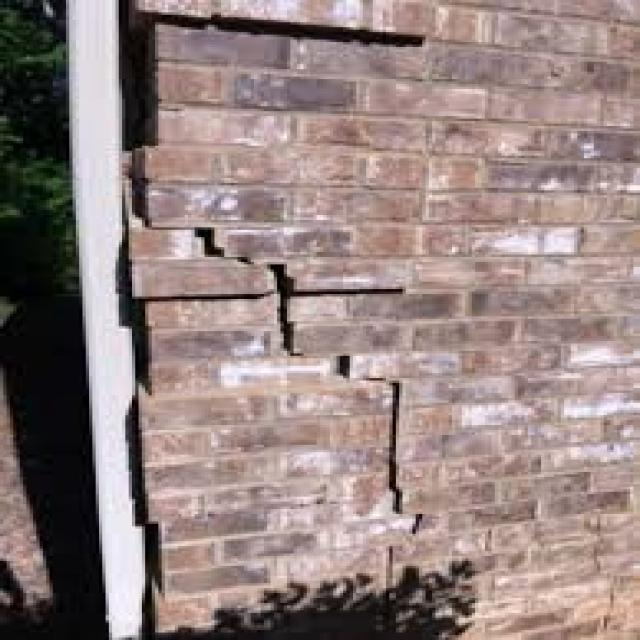Crack: (128, 173, 426, 571)
